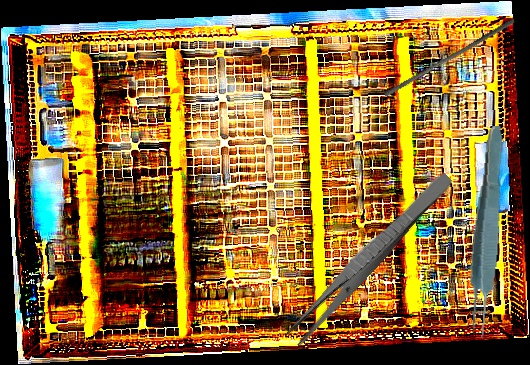Dressing Forceps: (282, 166, 456, 349)
Pusher: (383, 13, 516, 102)
Tissue Forceps: (463, 124, 510, 340)
